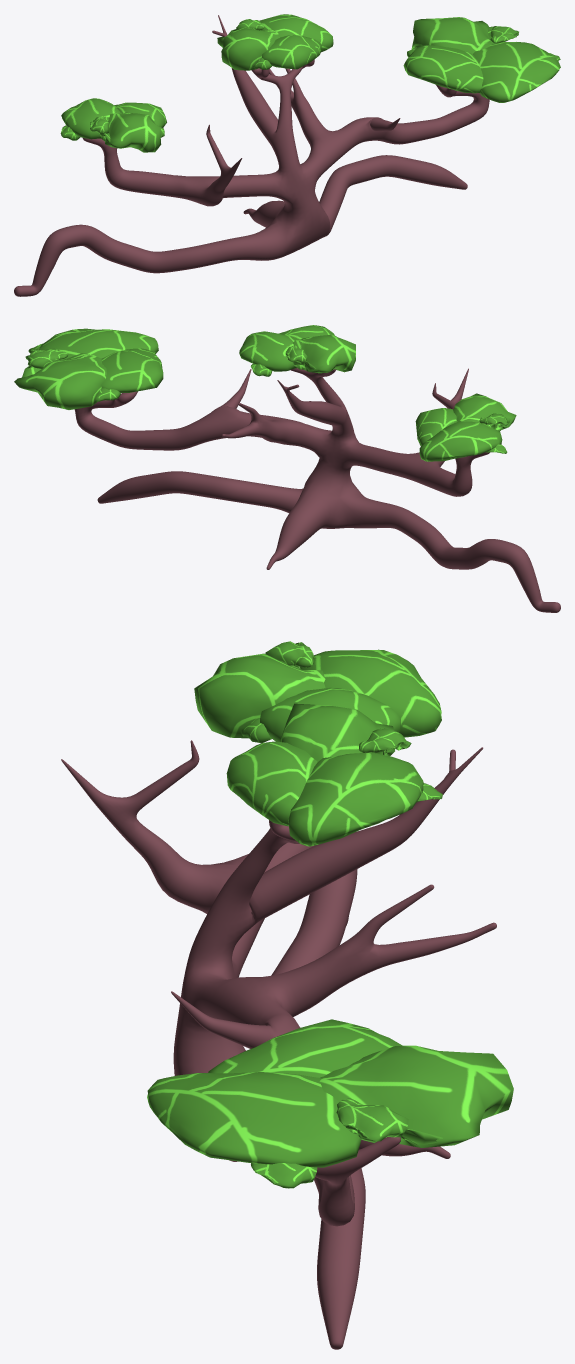
Rendered from ArbolPlataforma.fbx.
The picture shows the model from 3 angles, top to bottom: view 1: azimuth 30°, elevation 25°; view 2: azimuth 150°, elevation 25°; view 3: azimuth 270°, elevation 25°; orthographic projection. The views are drawn at different scales.
Visible parts, largest first — view 1: ArbolPlataformas, HojasPlat, HojasPlat.002, HojasPlat.001; view 2: ArbolPlataformas, HojasPlat, HojasPlat.001, HojasPlat.002; view 3: ArbolPlataformas, HojasPlat, HojasPlat.002, HojasPlat.001.
Part boxes in pixels (<box>): ArbolPlataformas: <box>14,15,489,296</box>; HojasPlat: <box>403,17,560,102</box>; HojasPlat.002: <box>217,14,333,70</box>; HojasPlat.001: <box>60,98,166,152</box>; ArbolPlataformas: <box>74,368,560,612</box>; HojasPlat: <box>14,328,163,409</box>; HojasPlat.001: <box>415,393,516,461</box>; HojasPlat.002: <box>239,325,355,376</box>; ArbolPlataformas: <box>61,740,496,1349</box>; HojasPlat: <box>147,1019,513,1188</box>; HojasPlat.002: <box>226,703,442,846</box>; HojasPlat.001: <box>194,641,441,743</box>.
Bounding box in the file's own units: 1311 × 502 × 483.
